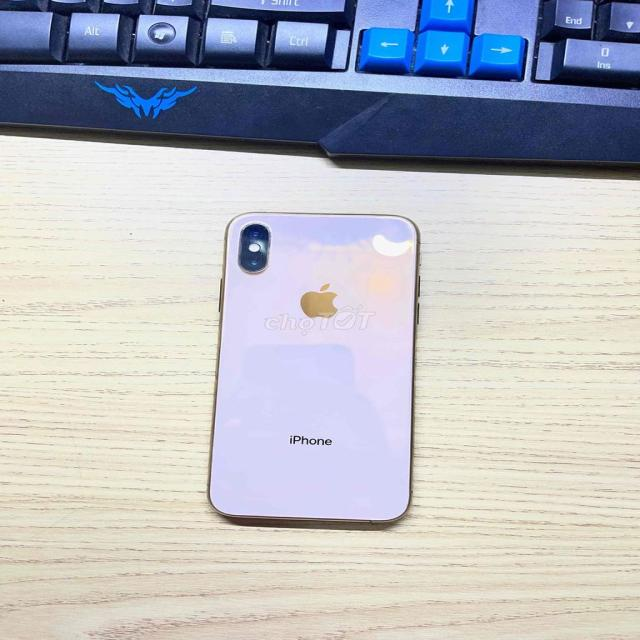gen_x_xs: (198, 208, 431, 535)
